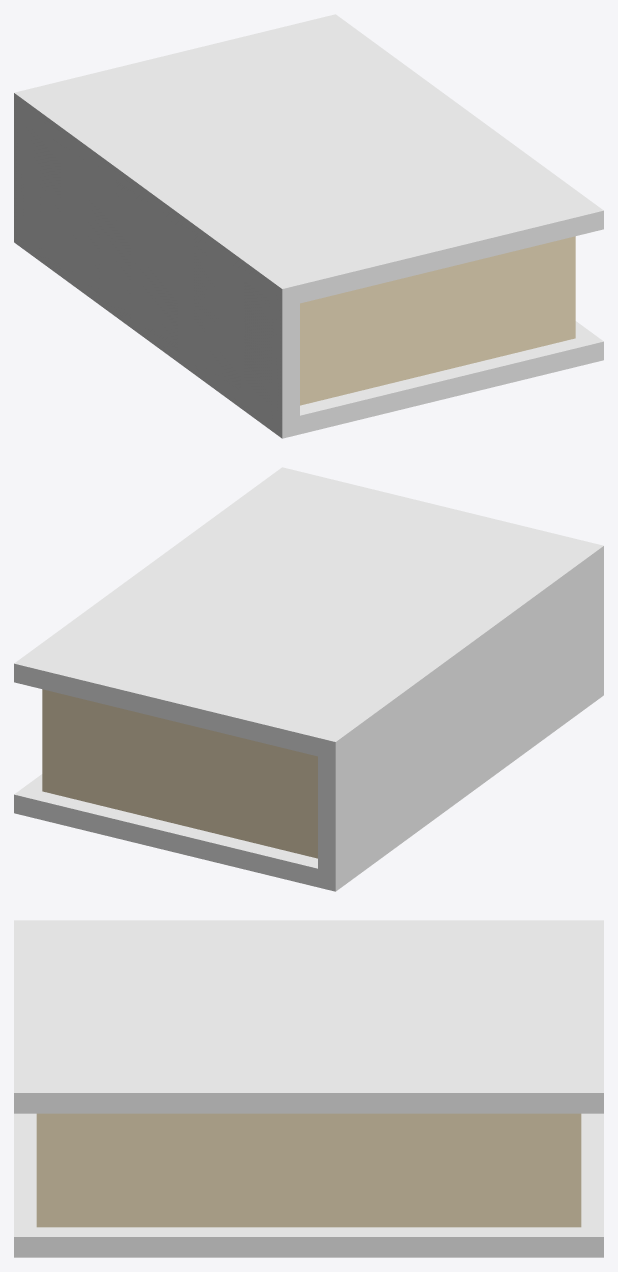
The model's file is book.glb.
3 renders of one model, top to bottom at view 1: azimuth 30°, elevation 25°; view 2: azimuth 150°, elevation 25°; view 3: azimuth 270°, elevation 25°, orthographic. The views are drawn at different scales.
Visible parts, largest first — view 1: cover, paper; view 2: cover, paper; view 3: cover, paper.
Part boxes in pixels (<box>): cover: <box>14,14,603,438</box>; paper: <box>300,236,575,405</box>; cover: <box>14,467,603,891</box>; paper: <box>42,689,317,858</box>; cover: <box>14,920,603,1257</box>; paper: <box>36,1113,581,1227</box>.
Size of the model in its own units: 0.2812 by 0.125 by 0.4062.
Materials: 1 (1 with a texture image).
